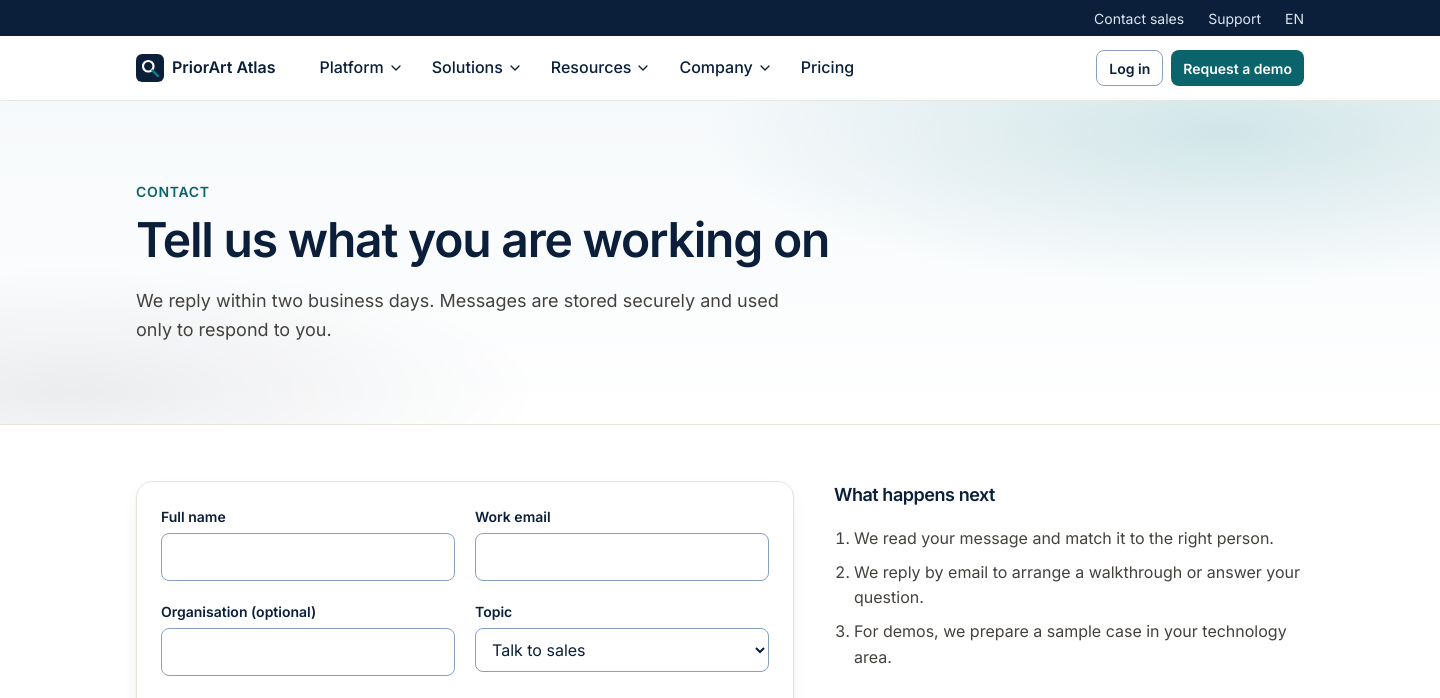
contact form › posts the form, preselects the topic from the link and confirms
The image size is (1440, 698).
Expected: the dropdown labelled "Topic" shows "Talk to sales", [475, 628, 769, 672]
Type "Dana Whitfield" into the field labelled "Full name". click: (308, 557)
box: [161, 533, 455, 581]
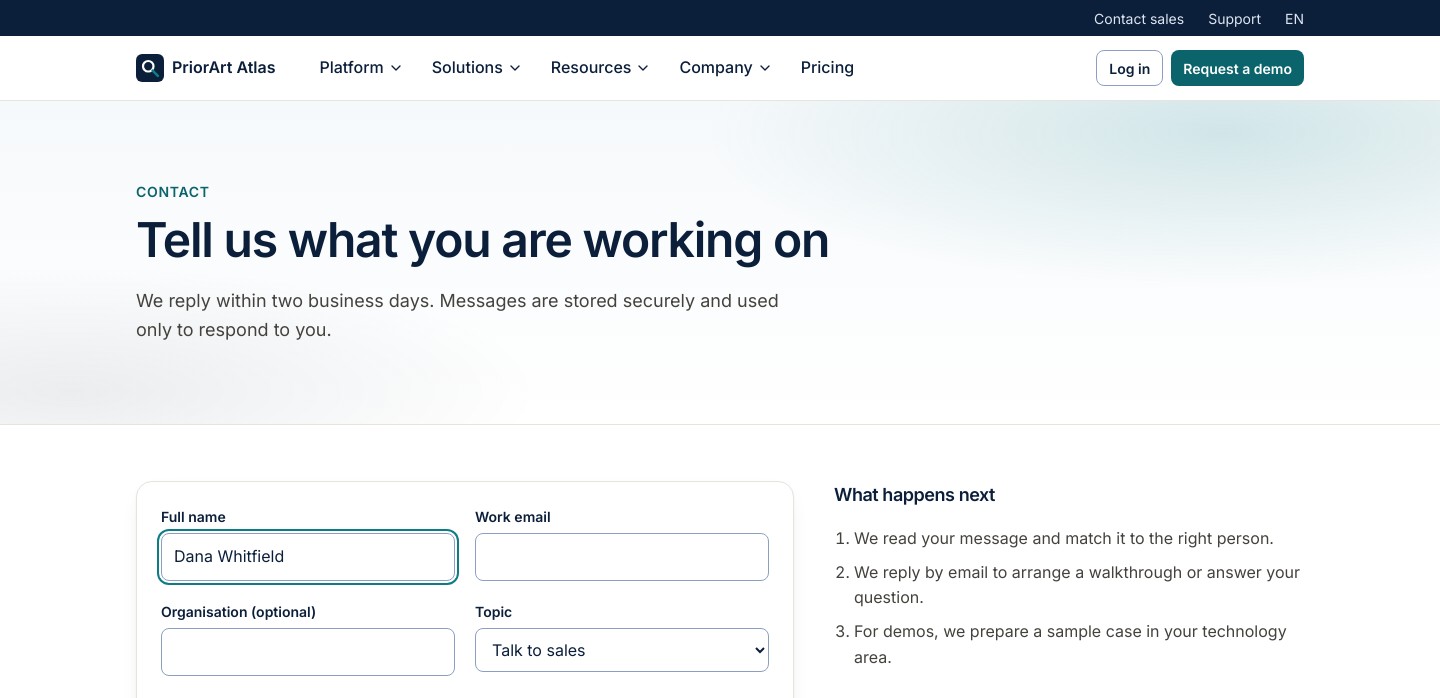
Type "dana@example.com" into the field labelled "Work email". click: (622, 557)
box: [475, 533, 769, 581]
(page scrolled)
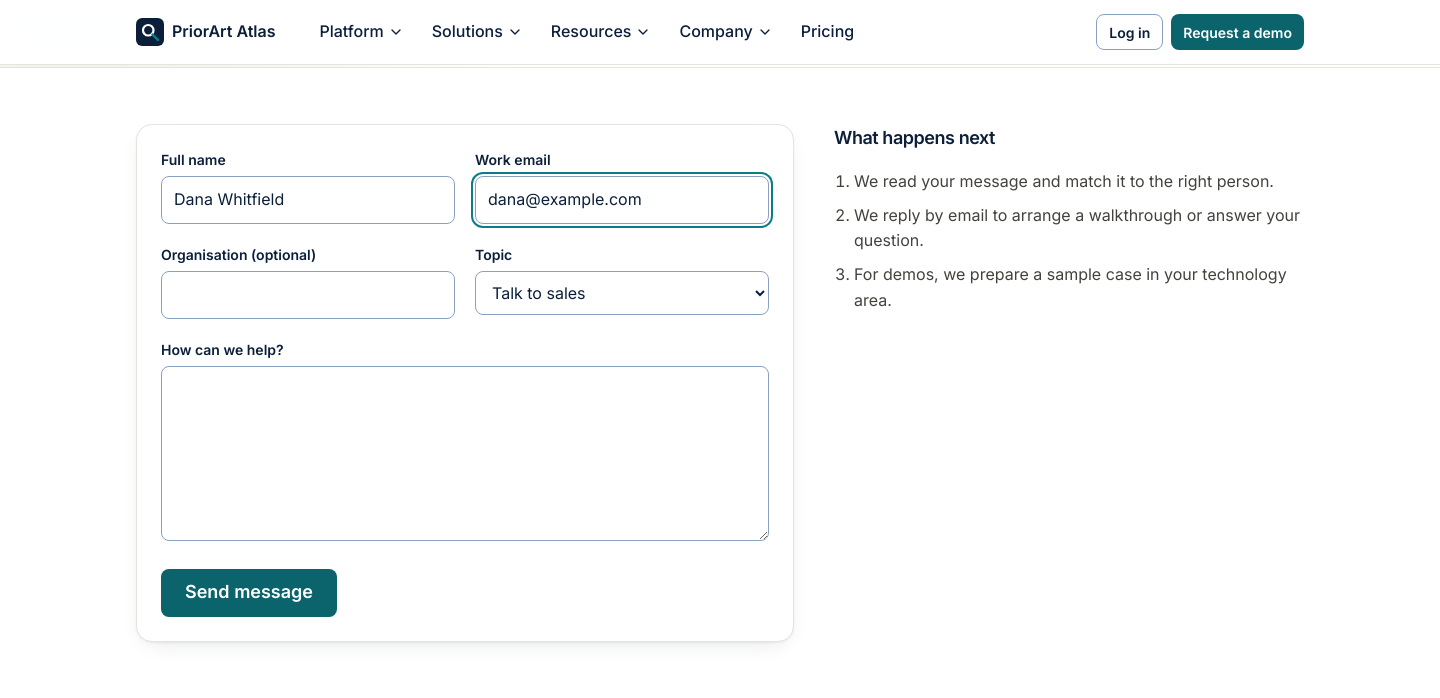
Type "We would like a walkthrough for our team." into the text box labelled "How can we help?". click: (465, 453)
box: [161, 366, 769, 541]
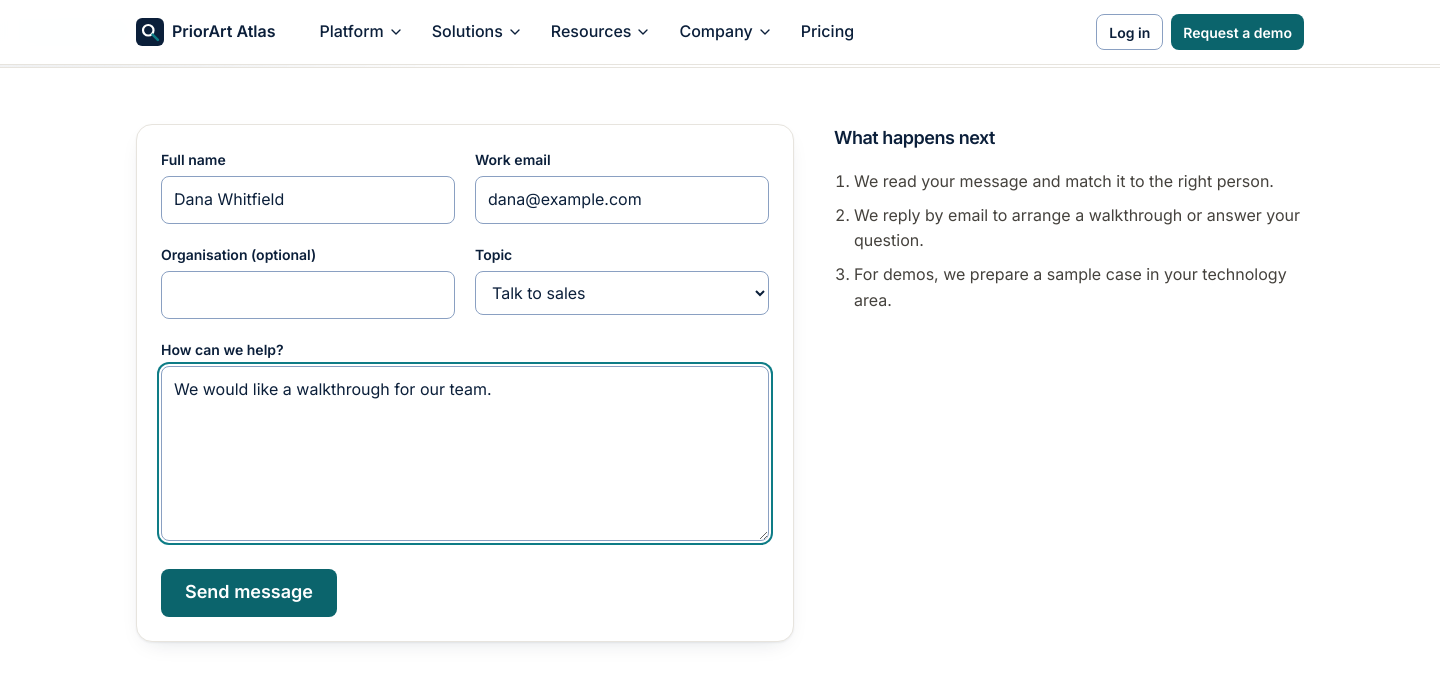
Click the button "Send message". click: (249, 593)
box: [161, 569, 337, 617]
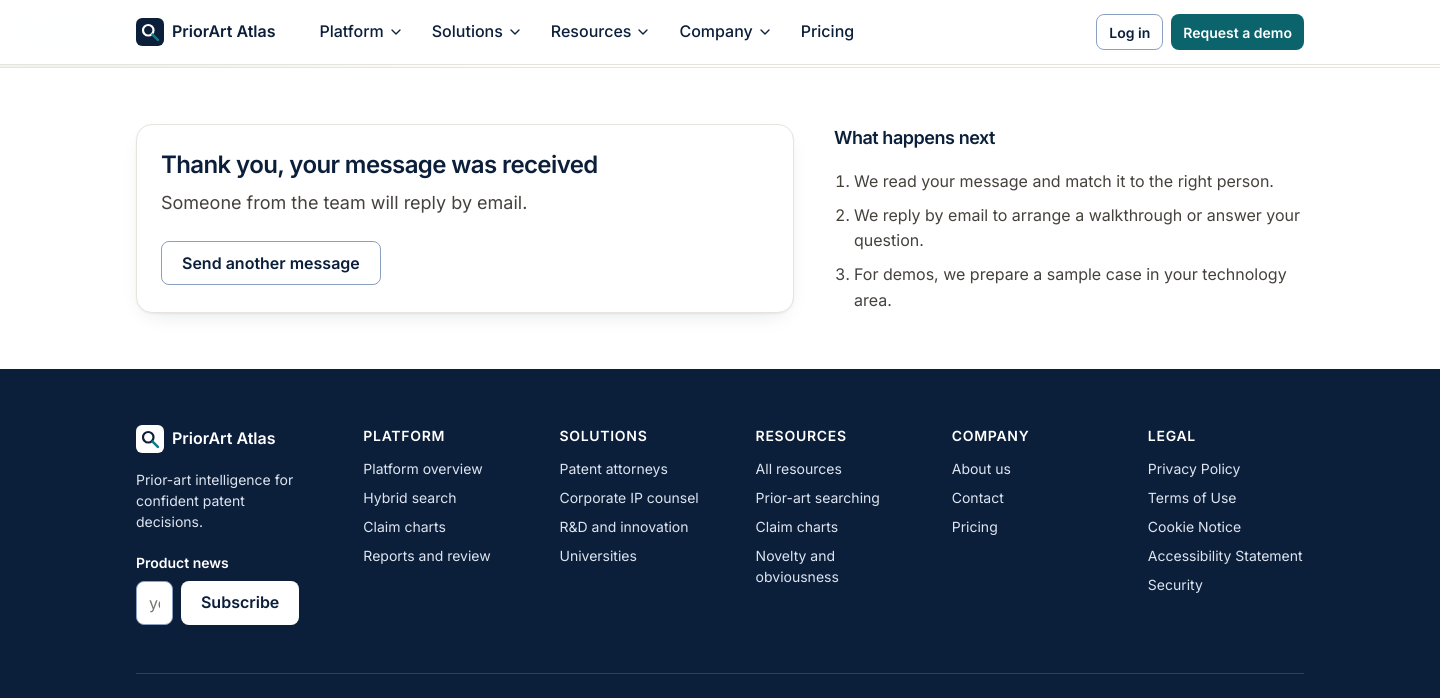
Now the heading "Thank you, your message was received" is shown, box [161, 150, 598, 179]
